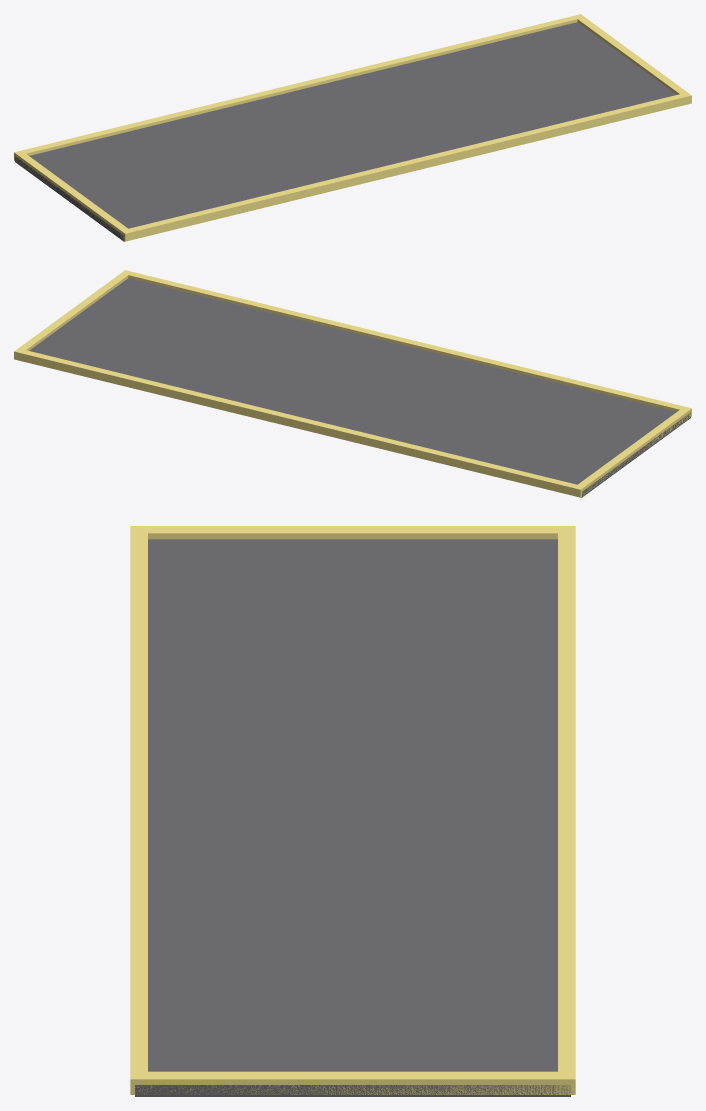
Rendered from Toy_RubberTrack_C3.fbx.
3 renders of one model, top to bottom at view 1: azimuth 30°, elevation 25°; view 2: azimuth 150°, elevation 25°; view 3: azimuth 270°, elevation 25°, orthographic. The views are drawn at different scales.
Visible parts, largest first — view 1: Toy_RubberTrack_C3; view 2: Toy_RubberTrack_C3; view 3: Toy_RubberTrack_C3.
Boxes of the visible parts, box(x1,y1,x2,y2) form: Toy_RubberTrack_C3: box(14, 14, 691, 241); Toy_RubberTrack_C3: box(14, 270, 691, 497); Toy_RubberTrack_C3: box(130, 526, 575, 1096).
Size of the model in its own units: 6 by 0.09 by 2.04.
